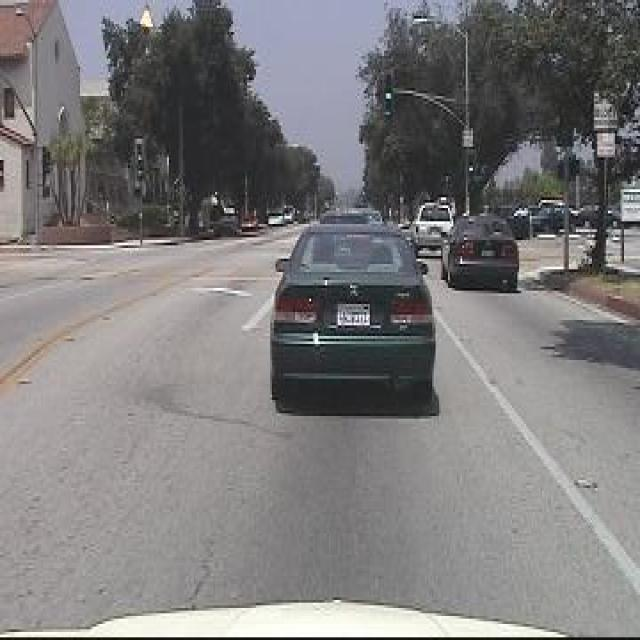car_back: (263, 214, 444, 426)
